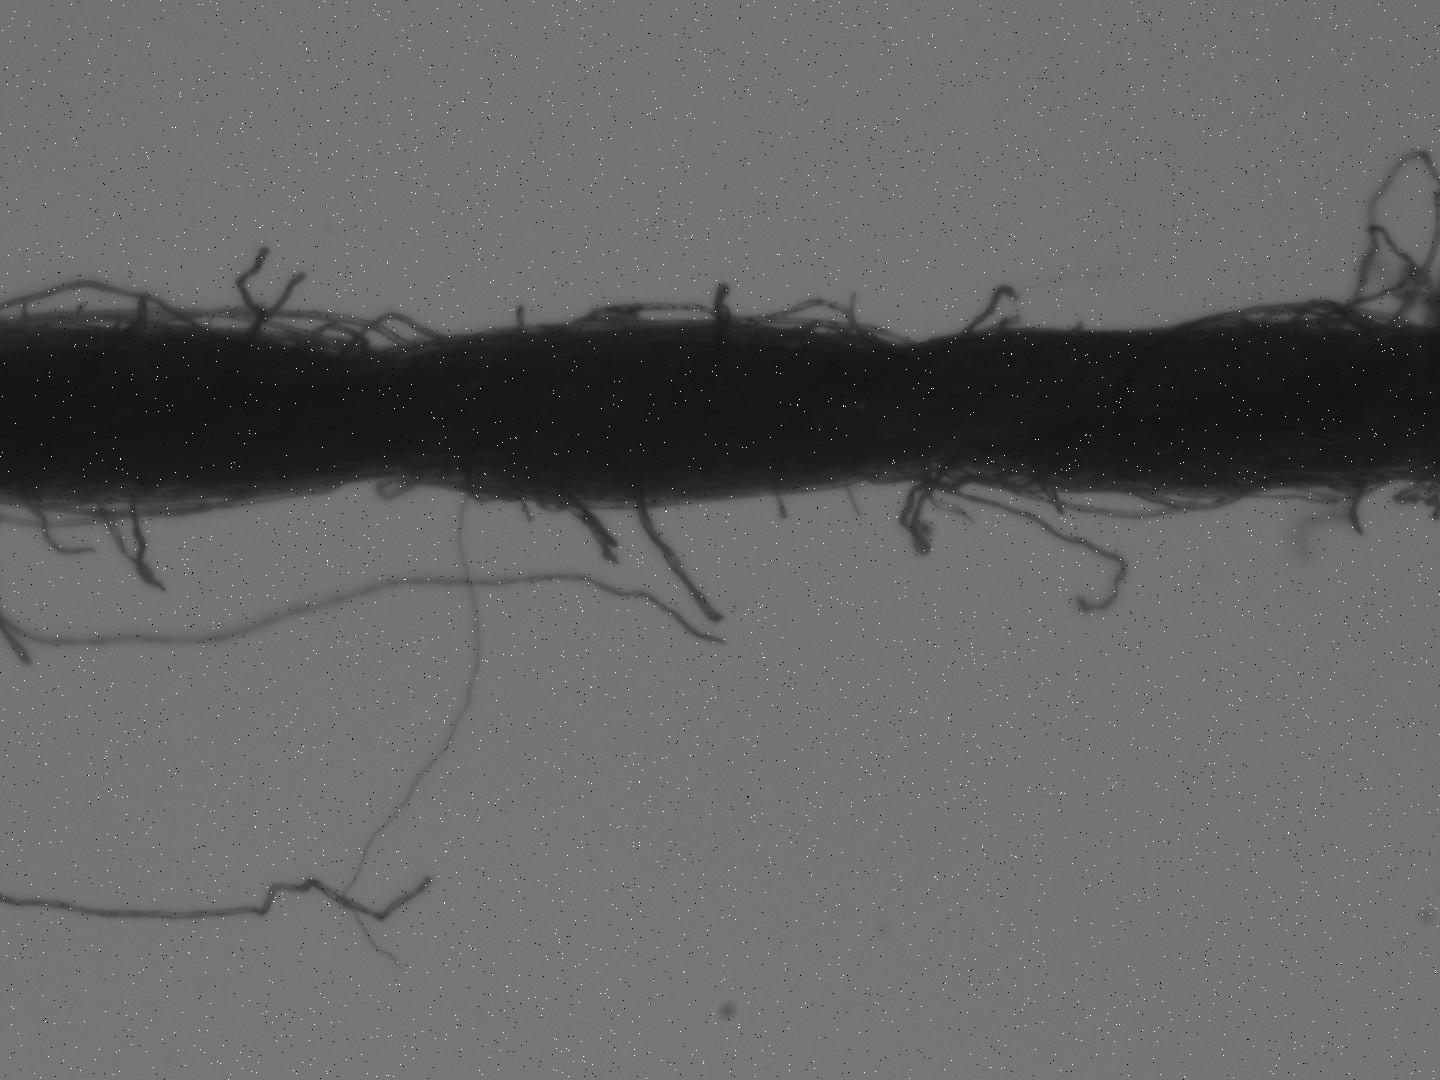loop_fiber: (897, 454, 1201, 559), (578, 296, 876, 344), (158, 305, 406, 347), (1177, 299, 1401, 327), (1128, 478, 1253, 516), (345, 311, 444, 355), (26, 307, 159, 330), (295, 318, 369, 354), (856, 457, 938, 484)
protruding_fiber: (340, 490, 483, 963), (3, 569, 723, 648), (918, 475, 1128, 615), (1, 870, 438, 921), (632, 496, 727, 625), (236, 268, 312, 344), (18, 489, 95, 556), (231, 244, 276, 336), (955, 281, 1026, 338), (514, 304, 523, 330)
